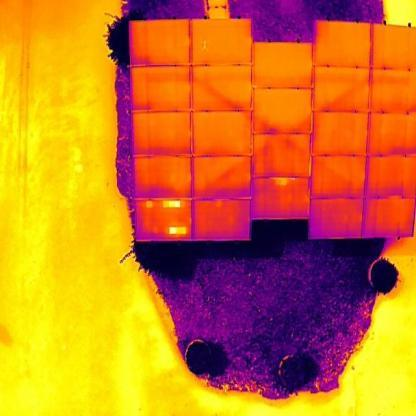anomaly: (270, 177, 296, 186), (167, 225, 187, 236), (160, 199, 182, 209), (144, 200, 155, 209)
